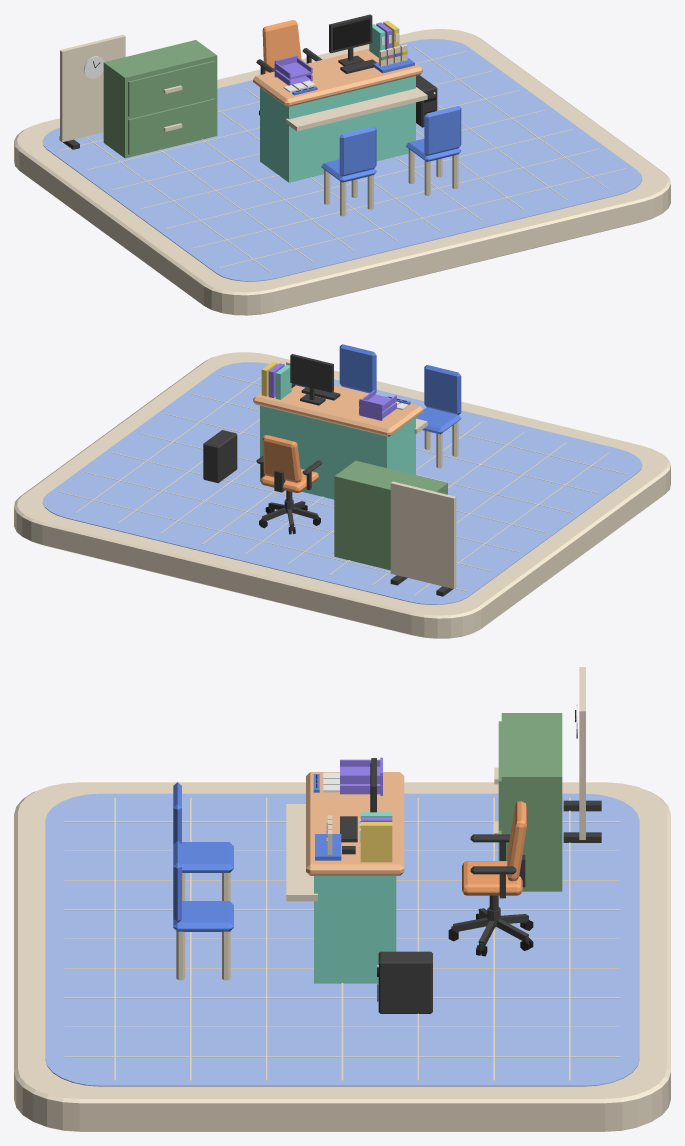
3 renders of one model, top to bottom at view 1: azimuth 30°, elevation 25°; view 2: azimuth 150°, elevation 25°; view 3: azimuth 270°, elevation 25°, orthographic. The views are drawn at different scales.
Visible parts, largest first — view 1: COM-02 Floor Surface, COM-01 Rounded Base Direct, Cabinet, Counter body, Panel, Countertop, Visitor shelf, COM-04_Chair_blender_direct, Backrest, Backrest.001, Frame, Tower (+5 smaller); view 2: COM-02 Floor Surface, COM-01 Rounded Base Direct, Counter body, Cabinet, Panel, Countertop, COM-04_Chair_blender_direct, Backrest, Backrest.001, Tower, Frame, Seat (+2 smaller); view 3: COM-02 Floor Surface, COM-01 Rounded Base Direct, Cabinet, Counter body, Countertop, COM-04_Chair_blender_direct, Tower, Visitor shelf, Seat.001, Seat, File.002, Panel (+7 smaller).
Part boxes in pixels (bbox=[...]): COM-02 Floor Surface: bbox=[42, 39, 642, 281]; COM-01 Rounded Base Direct: bbox=[14, 29, 670, 315]; Cabinet: bbox=[103, 40, 217, 158]; Counter body: bbox=[260, 76, 415, 182]; Panel: bbox=[60, 34, 125, 142]; Countertop: bbox=[253, 48, 422, 107]; Visitor shelf: bbox=[285, 87, 427, 131]; COM-04_Chair_blender_direct: bbox=[256, 20, 322, 115]; Backrest: bbox=[339, 126, 376, 176]; Backrest.001: bbox=[424, 106, 461, 155]; Frame: bbox=[329, 14, 372, 66]; Tower: bbox=[416, 75, 437, 127]; COM-02 Floor Surface: bbox=[42, 362, 642, 604]; COM-01 Rounded Base Direct: bbox=[14, 352, 670, 638]; Counter body: bbox=[260, 405, 415, 499]; Cabinet: bbox=[334, 460, 447, 570]; Panel: bbox=[390, 481, 456, 588]; Countertop: bbox=[253, 385, 422, 436]; COM-04_Chair_blender_direct: bbox=[256, 435, 322, 534]; Backrest: bbox=[424, 365, 461, 414]; Backrest.001: bbox=[339, 344, 376, 393]; Tower: bbox=[203, 430, 237, 483]; Frame: bbox=[290, 354, 333, 405]; Seat: bbox=[416, 407, 461, 434]; COM-02 Floor Surface: bbox=[45, 793, 639, 1086]; COM-01 Rounded Base Direct: bbox=[14, 782, 670, 1131]; Cabinet: bbox=[494, 713, 562, 891]; Counter body: bbox=[314, 876, 396, 983]; Countertop: bbox=[306, 772, 404, 875]; COM-04_Chair_blender_direct: bbox=[448, 801, 533, 956]; Tower: bbox=[378, 951, 432, 1013]; Visitor shelf: bbox=[286, 804, 317, 901]; Seat.001: bbox=[173, 901, 233, 931]; Seat: bbox=[182, 842, 233, 872]; File.002: bbox=[360, 822, 392, 862]; Panel: bbox=[579, 667, 585, 839].
Bounding box in the file's own units: 6 × 1.87 × 5.2.
Materials: 1 (1 with a texture image).
